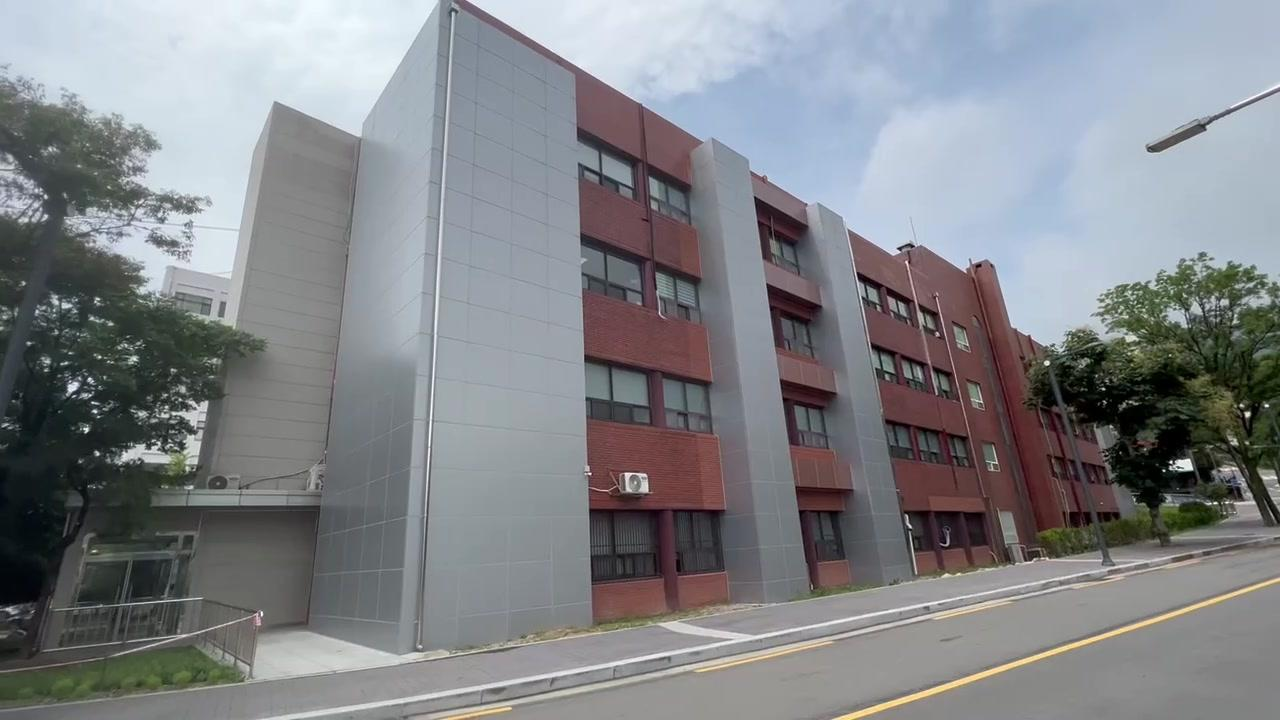building: (364, 133, 1039, 578)
